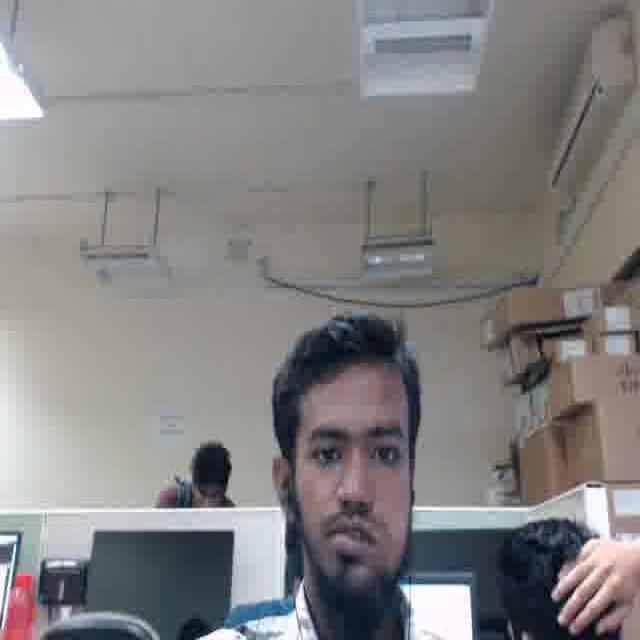Engaged: (293, 375, 413, 585)
